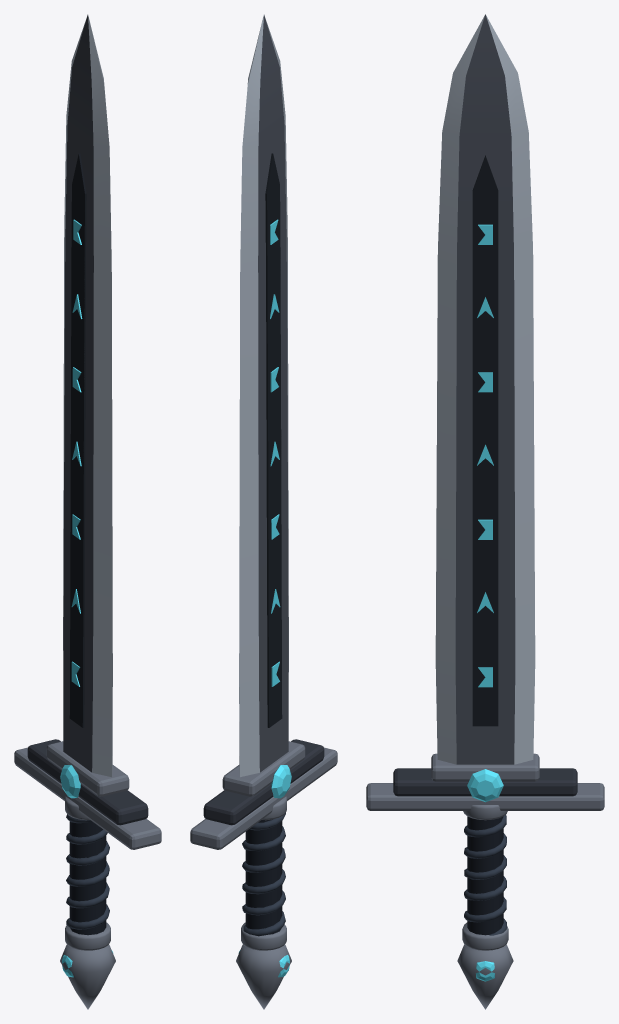
The model's file is sword_runic.fbx.
The picture shows the model from 3 angles, left to right: view 1: azimuth 30°, elevation 25°; view 2: azimuth 150°, elevation 25°; view 3: azimuth 270°, elevation 25°; orthographic projection.
Visible parts, largest first — view 1: sword_runic; view 2: sword_runic; view 3: sword_runic.
Boxes of the visible parts, x1,y1,x2,y2 form: sword_runic: (14,14,161,1009); sword_runic: (190,14,337,1009); sword_runic: (366,14,604,1009).
Bounding box in the file's own units: 0.052 × 1.02 × 0.22.
